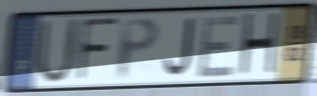E: (195, 12, 242, 80)
F: (75, 16, 121, 85)
H: (237, 10, 281, 81)
J: (162, 16, 197, 80)
P: (116, 15, 162, 84)
U: (34, 16, 81, 88)
